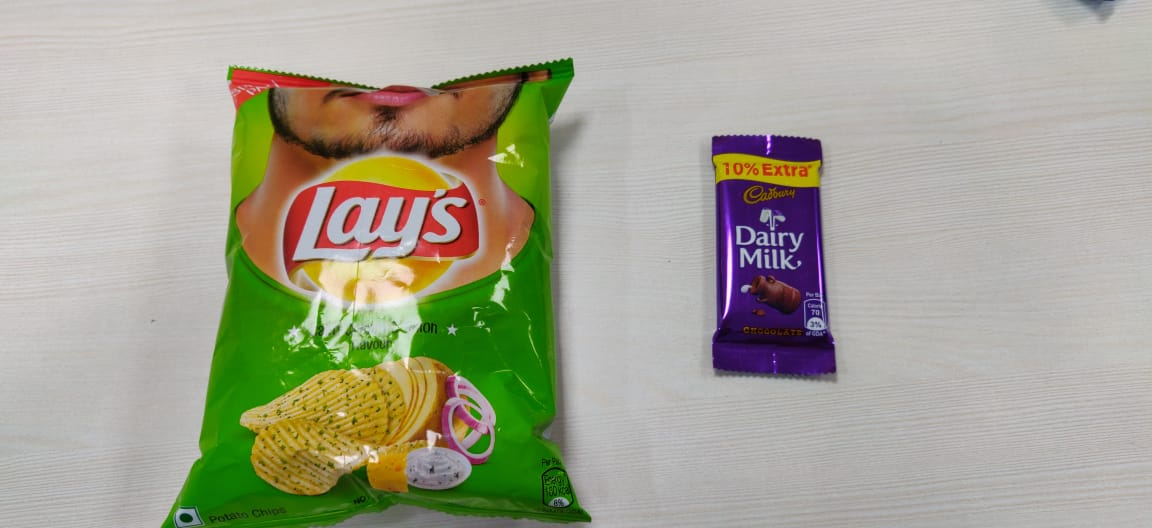dairy milk: (702, 116, 843, 383)
lays chips: (159, 45, 597, 528)
